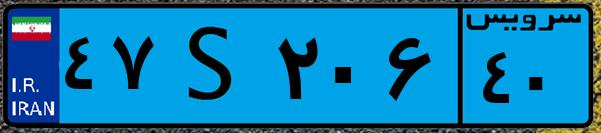0: (330, 28, 385, 110), (525, 38, 570, 115)
2: (270, 28, 330, 110)
4: (57, 26, 110, 100), (475, 38, 525, 113)
6: (385, 28, 445, 110)
7: (110, 28, 158, 98)
S: (158, 12, 270, 120)
